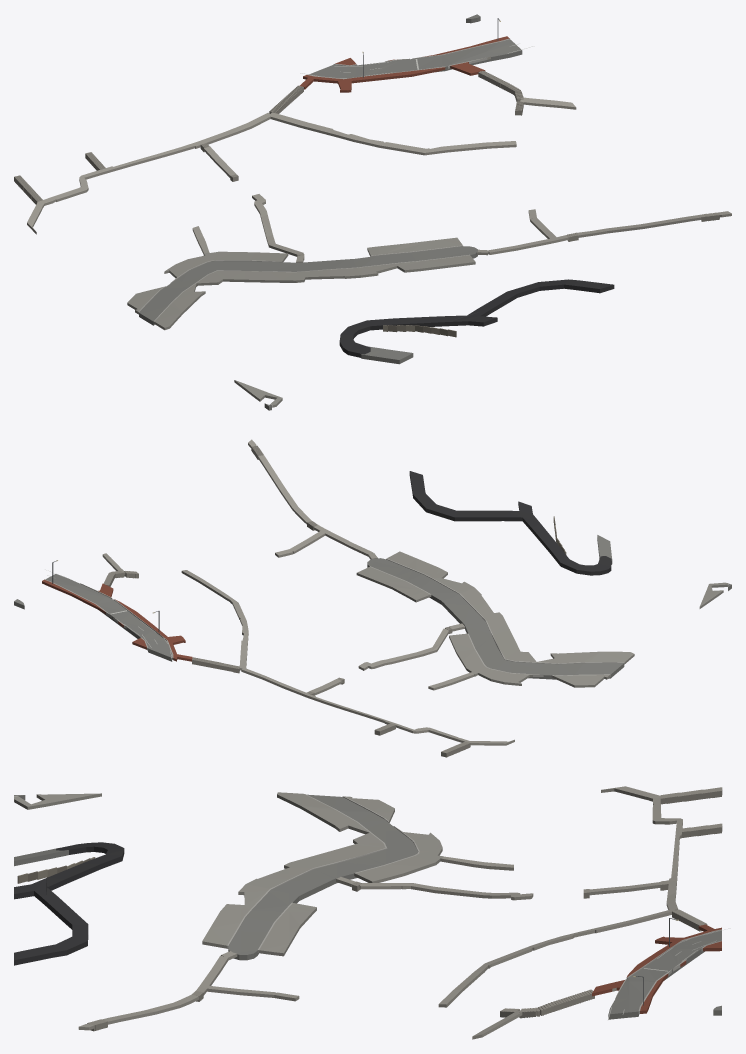
3 views of the same model, one above another, from view 1: azimuth 30°, elevation 25°; view 2: azimuth 150°, elevation 25°; view 3: azimuth 270°, elevation 25° (orthographic). The views are drawn at different scales.
Size of the model in its own units: 150 by 27.3 by 148.
